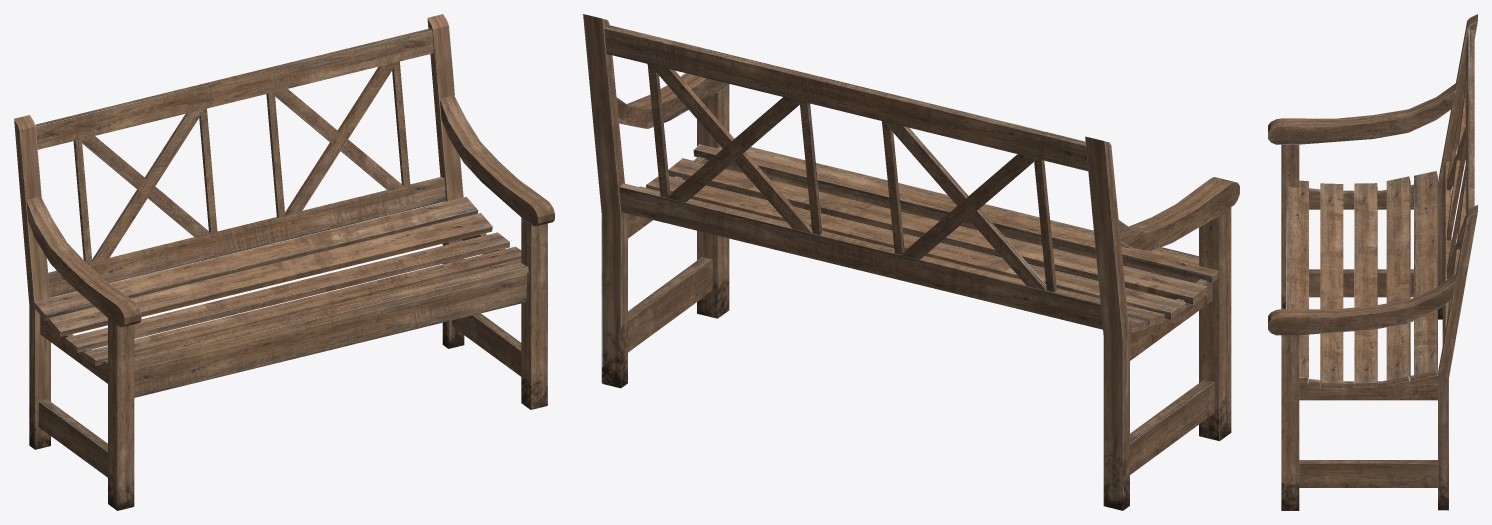
Rendered from Panchina.fbx.
3 renders of one model, left to right at view 1: azimuth 30°, elevation 25°; view 2: azimuth 150°, elevation 25°; view 3: azimuth 270°, elevation 25°, orthographic. The views are drawn at different scales.
Visible parts, largest first — view 1: panchina obj; view 2: panchina obj; view 3: panchina obj.
Boxes of the visible parts, box(x1,y1,x2,y2) form: panchina obj: box(14, 14, 554, 510); panchina obj: box(583, 14, 1239, 510); panchina obj: box(1268, 14, 1477, 510).
Bounding box in the file's own units: 617 × 431 × 274.
